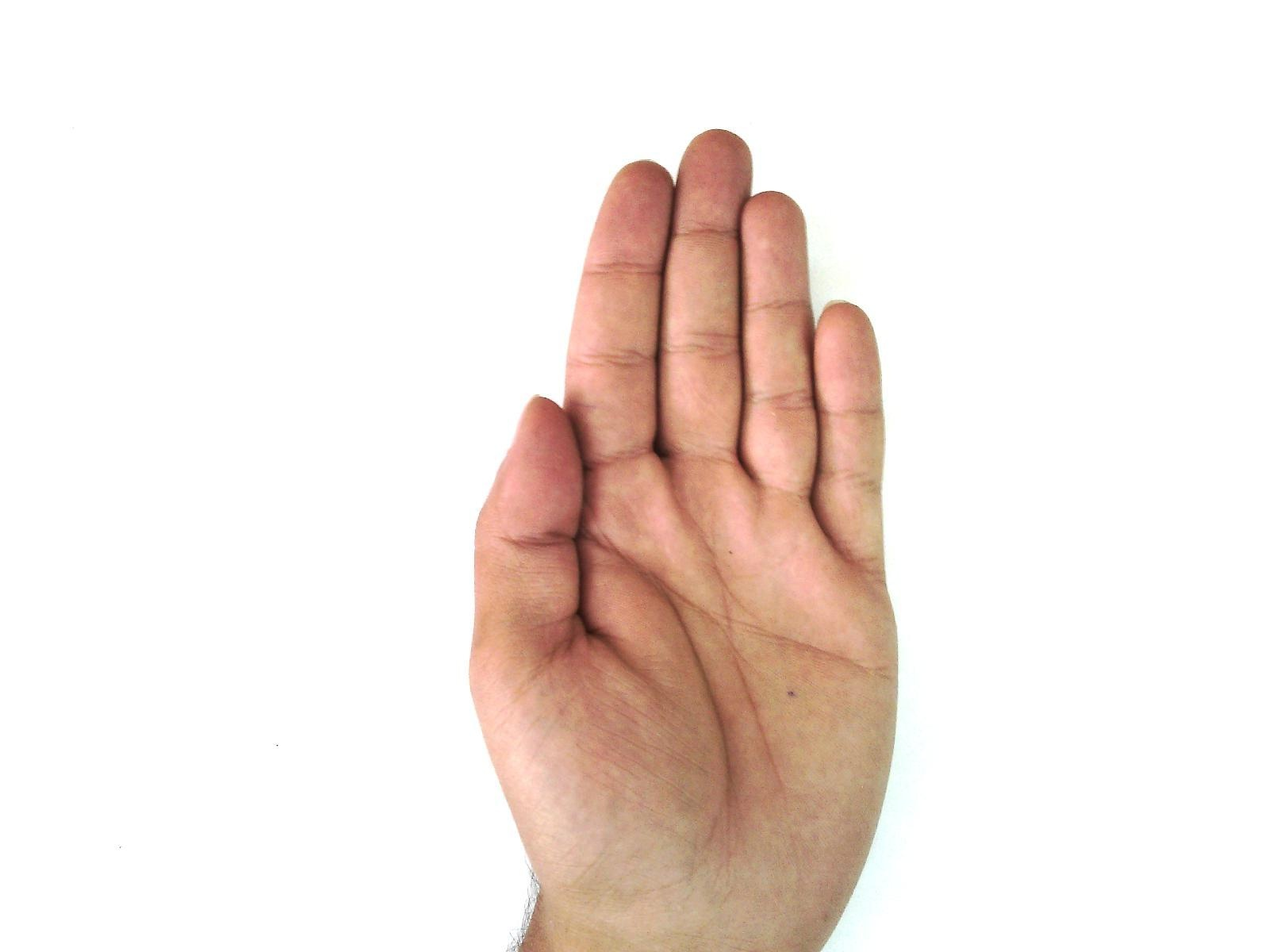open_palm: (466, 128, 903, 950)
